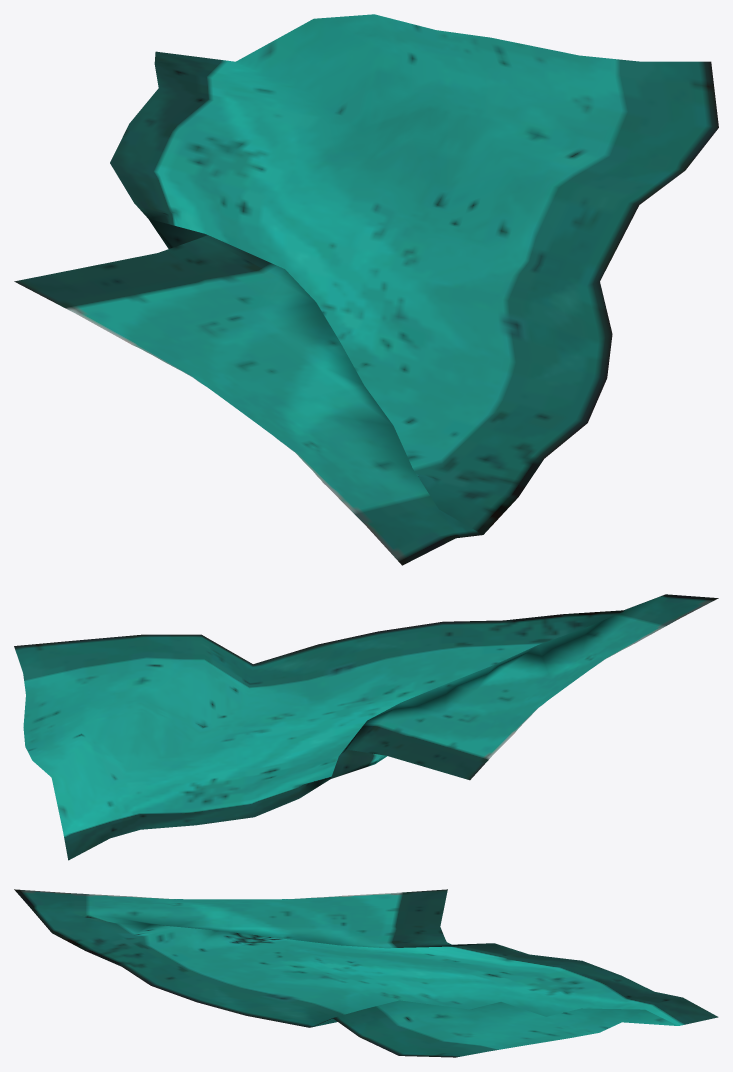
The model's file is nt_2020_flag_korea_01_LOD0.obj.
3 views of the same model, one above another, from view 1: azimuth 30°, elevation 25°; view 2: azimuth 150°, elevation 25°; view 3: azimuth 270°, elevation 25° (orthographic). The views are drawn at different scales.
Visible parts, largest first — view 1: mtl_nt_2020_flags_01; view 2: mtl_nt_2020_flags_01; view 3: mtl_nt_2020_flags_01.
Part boxes in pixels (box(x1,y1,x2,y2)): mtl_nt_2020_flags_01: box(14, 14, 718, 565); mtl_nt_2020_flags_01: box(14, 594, 718, 860); mtl_nt_2020_flags_01: box(14, 889, 718, 1057).
Bounding box in the file's own units: 225 × 25.63 × 348.
